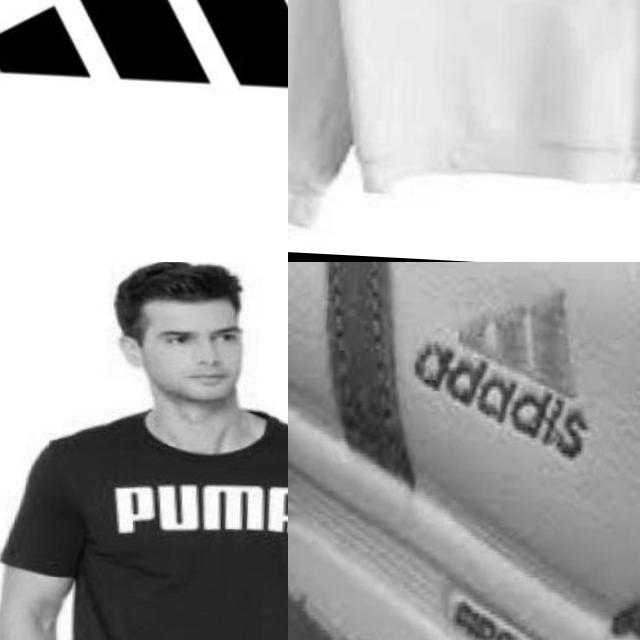ADIDAS_fake: (400, 262, 615, 501)
ADIDAS_original: (0, 0, 288, 139)
PUMA_original: (110, 470, 288, 544)
